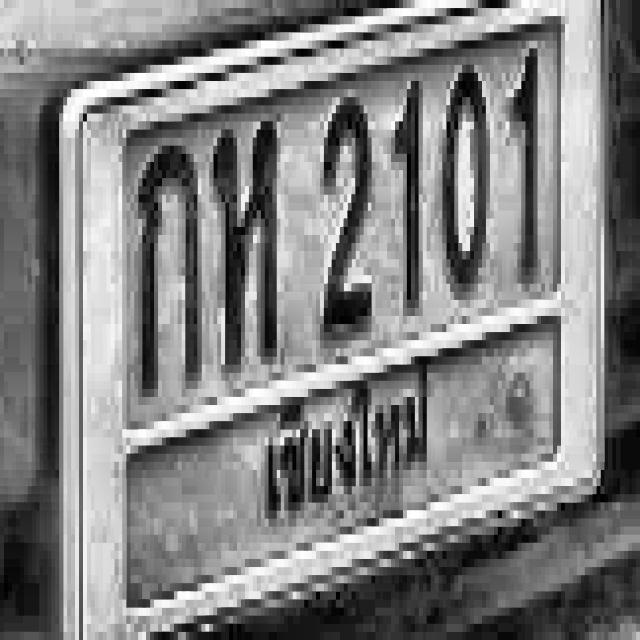license-plate: (60, 0, 606, 640)
